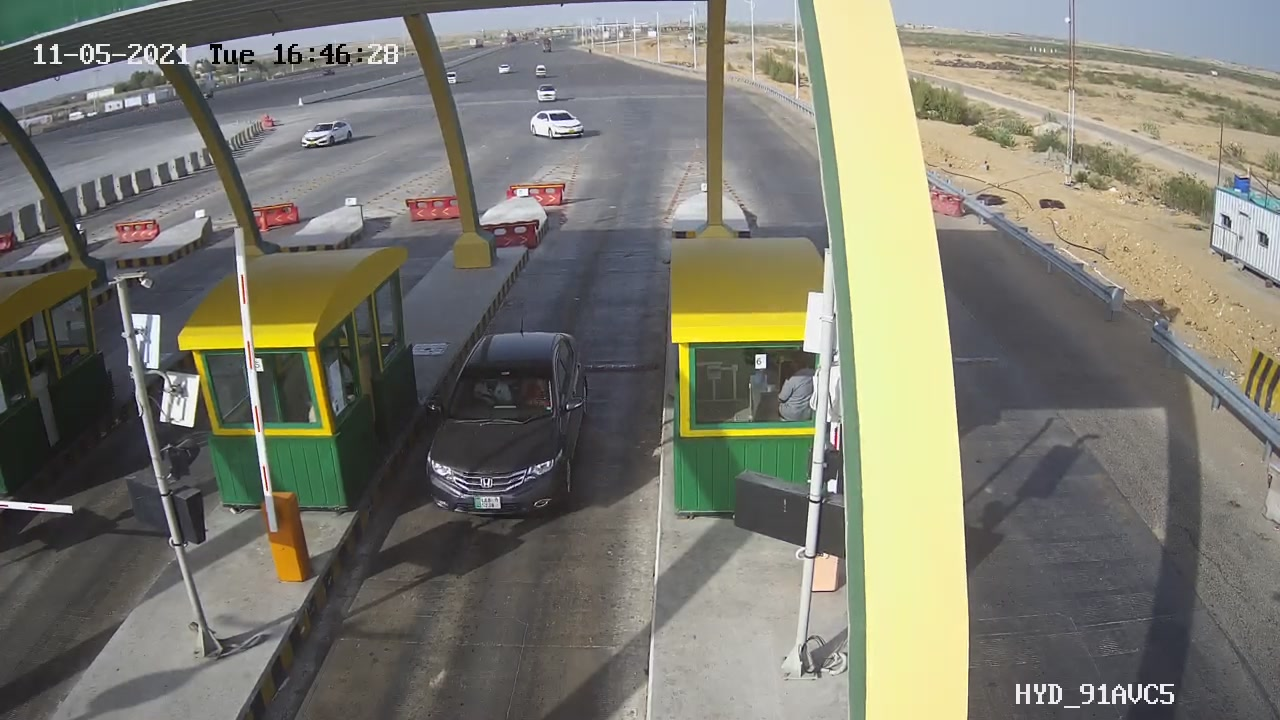F1: (396, 308, 611, 545)
